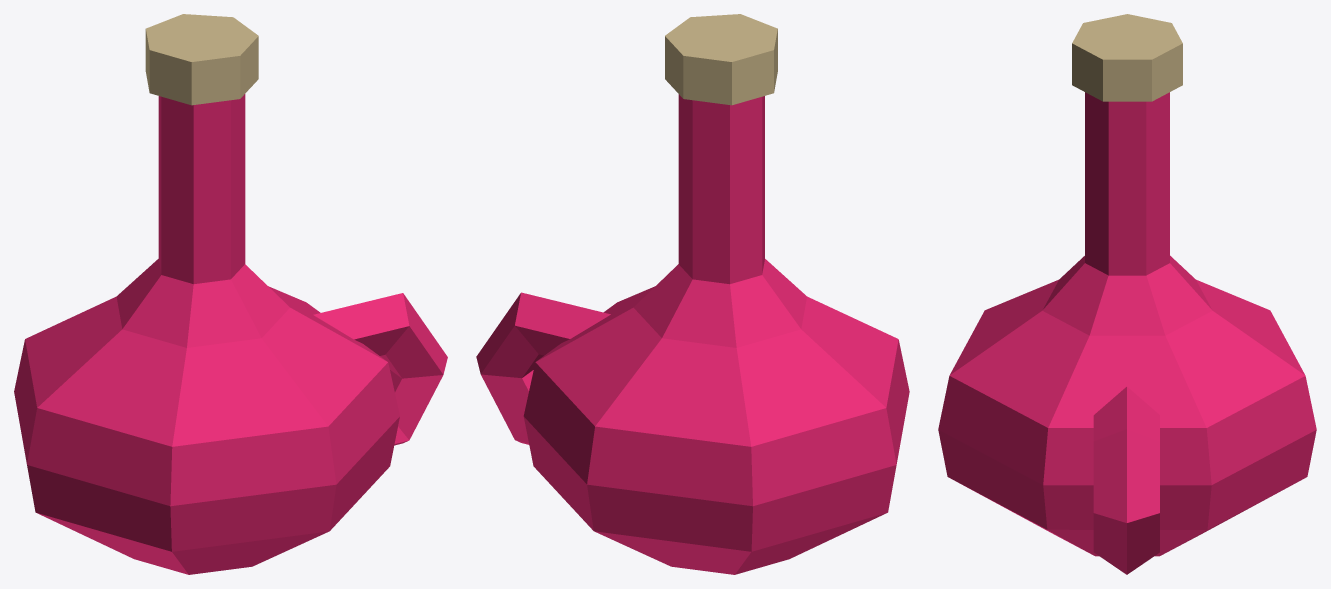
File: HandlePotion.012.fbx
3 renders of one model, left to right at view 1: azimuth 30°, elevation 25°; view 2: azimuth 150°, elevation 25°; view 3: azimuth 270°, elevation 25°, orthographic. The views are drawn at different scales.
Parts seen in each view (by area): view 1: HandlePotion.012; view 2: HandlePotion.012; view 3: HandlePotion.012.
Boxes of the visible parts, left/top/right/bottom form: HandlePotion.012: left=14, top=14, right=447, bottom=574; HandlePotion.012: left=476, top=14, right=909, bottom=574; HandlePotion.012: left=938, top=14, right=1316, bottom=574.
Bounding box in the file's own units: 16.54 × 18.99 × 13.29.
